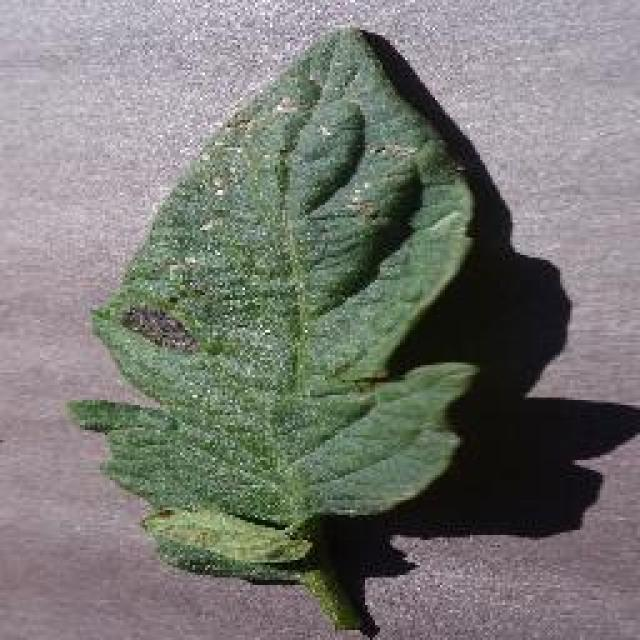Tomato___Early_blight: (70, 25, 486, 632)
